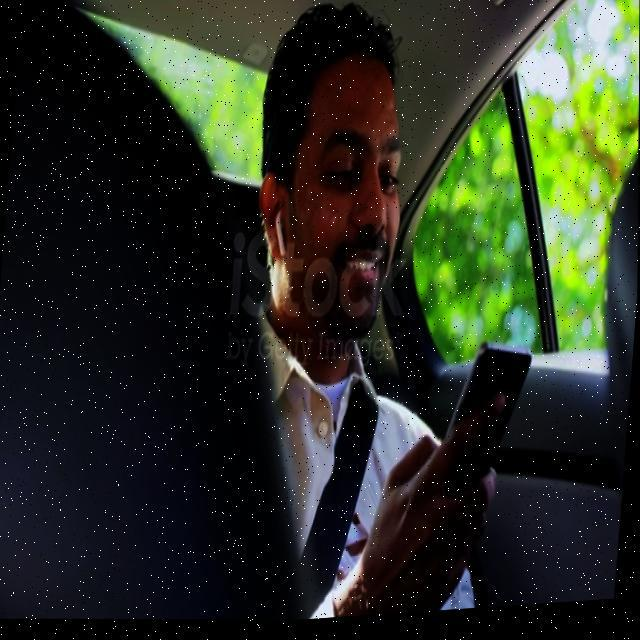PhoneCall: (432, 342, 535, 509)
